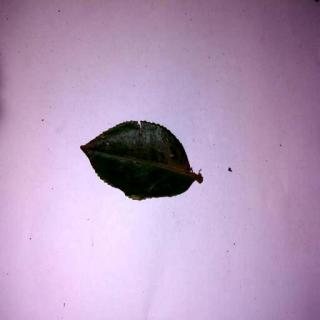Anthracnose: (81, 118, 205, 204)
